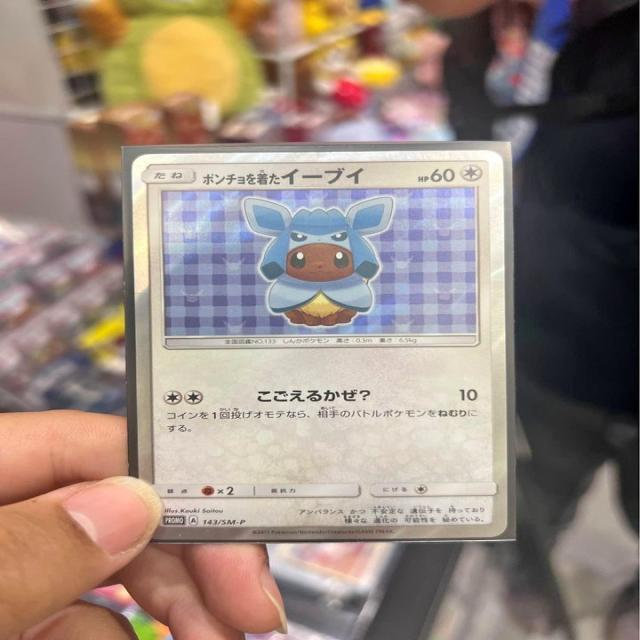card: (132, 149, 509, 540)
